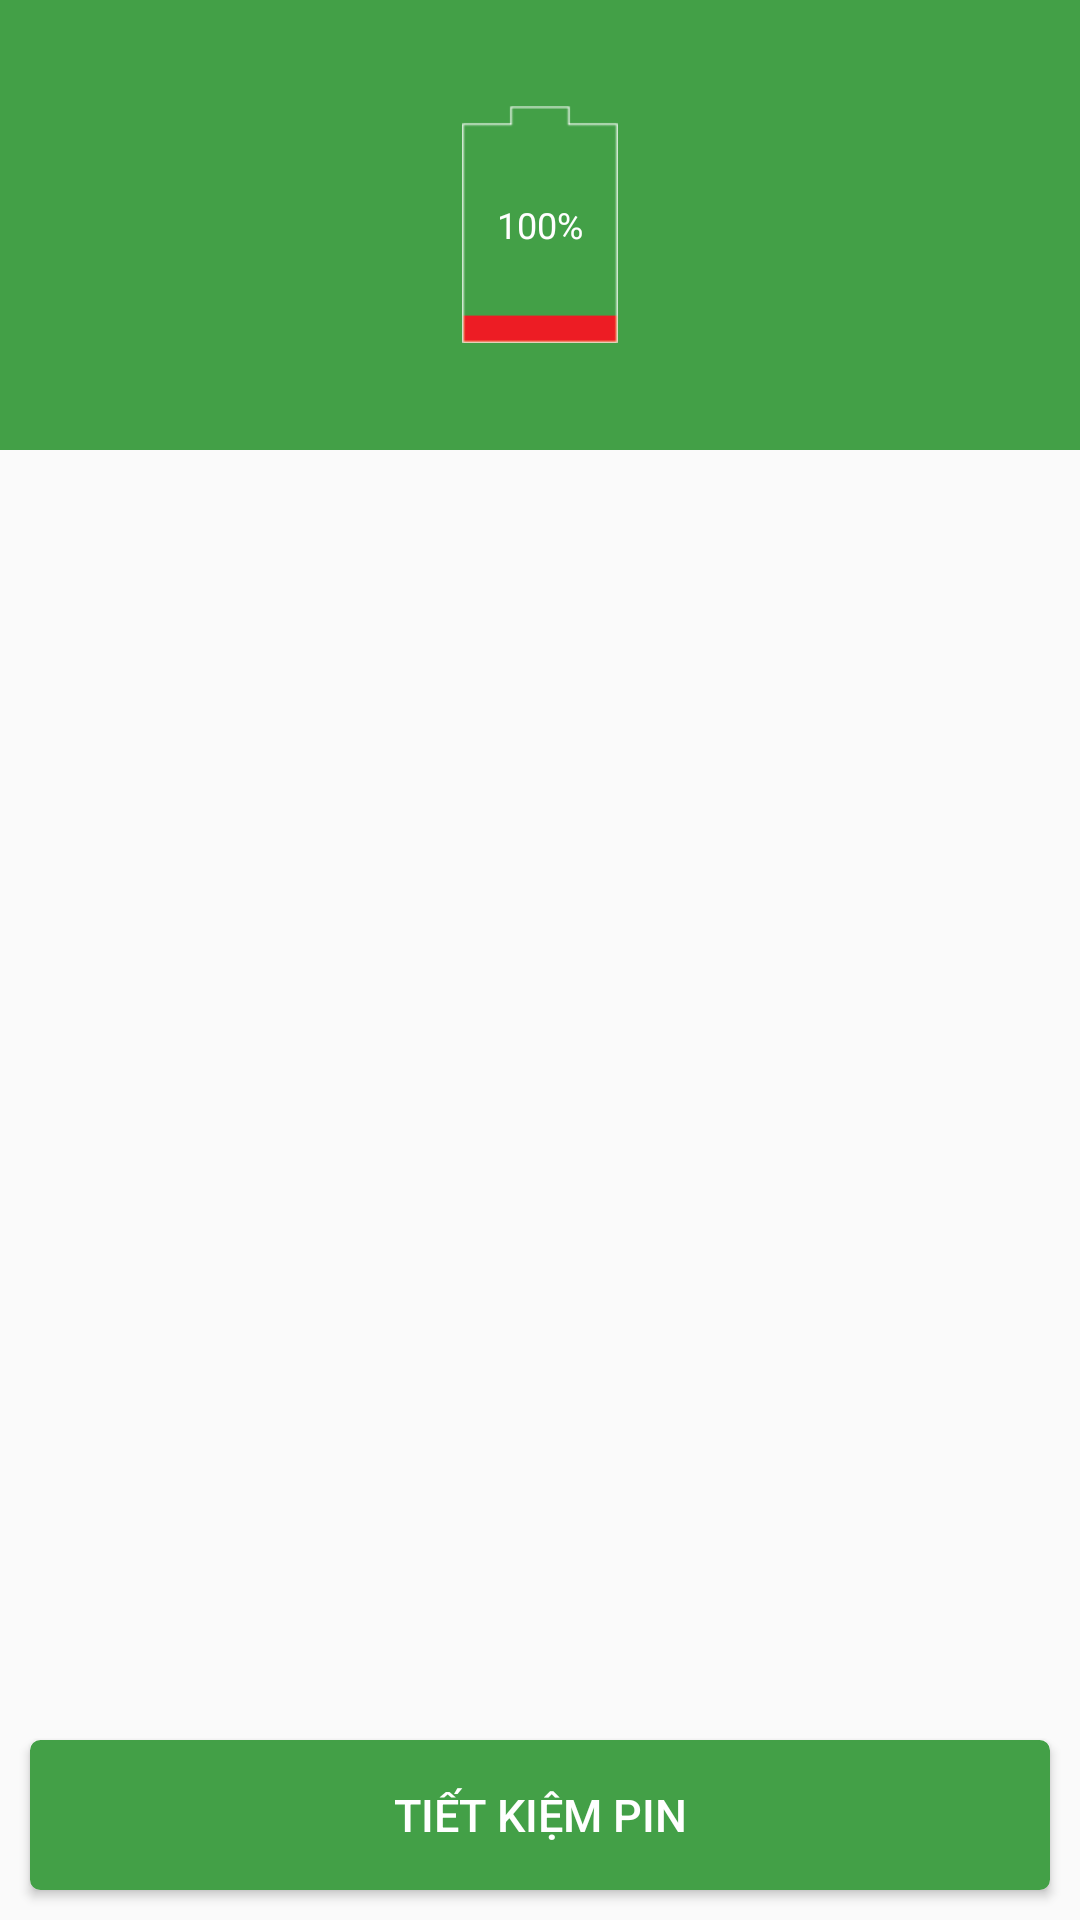

Where to tap for icons on this 1080 × 1920 app screen, as (x,y):
battery: (540,224)
